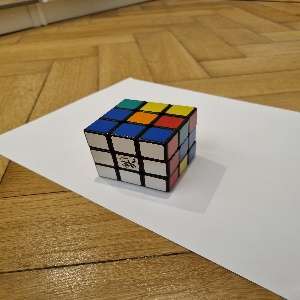cube: (84, 98, 197, 193)
